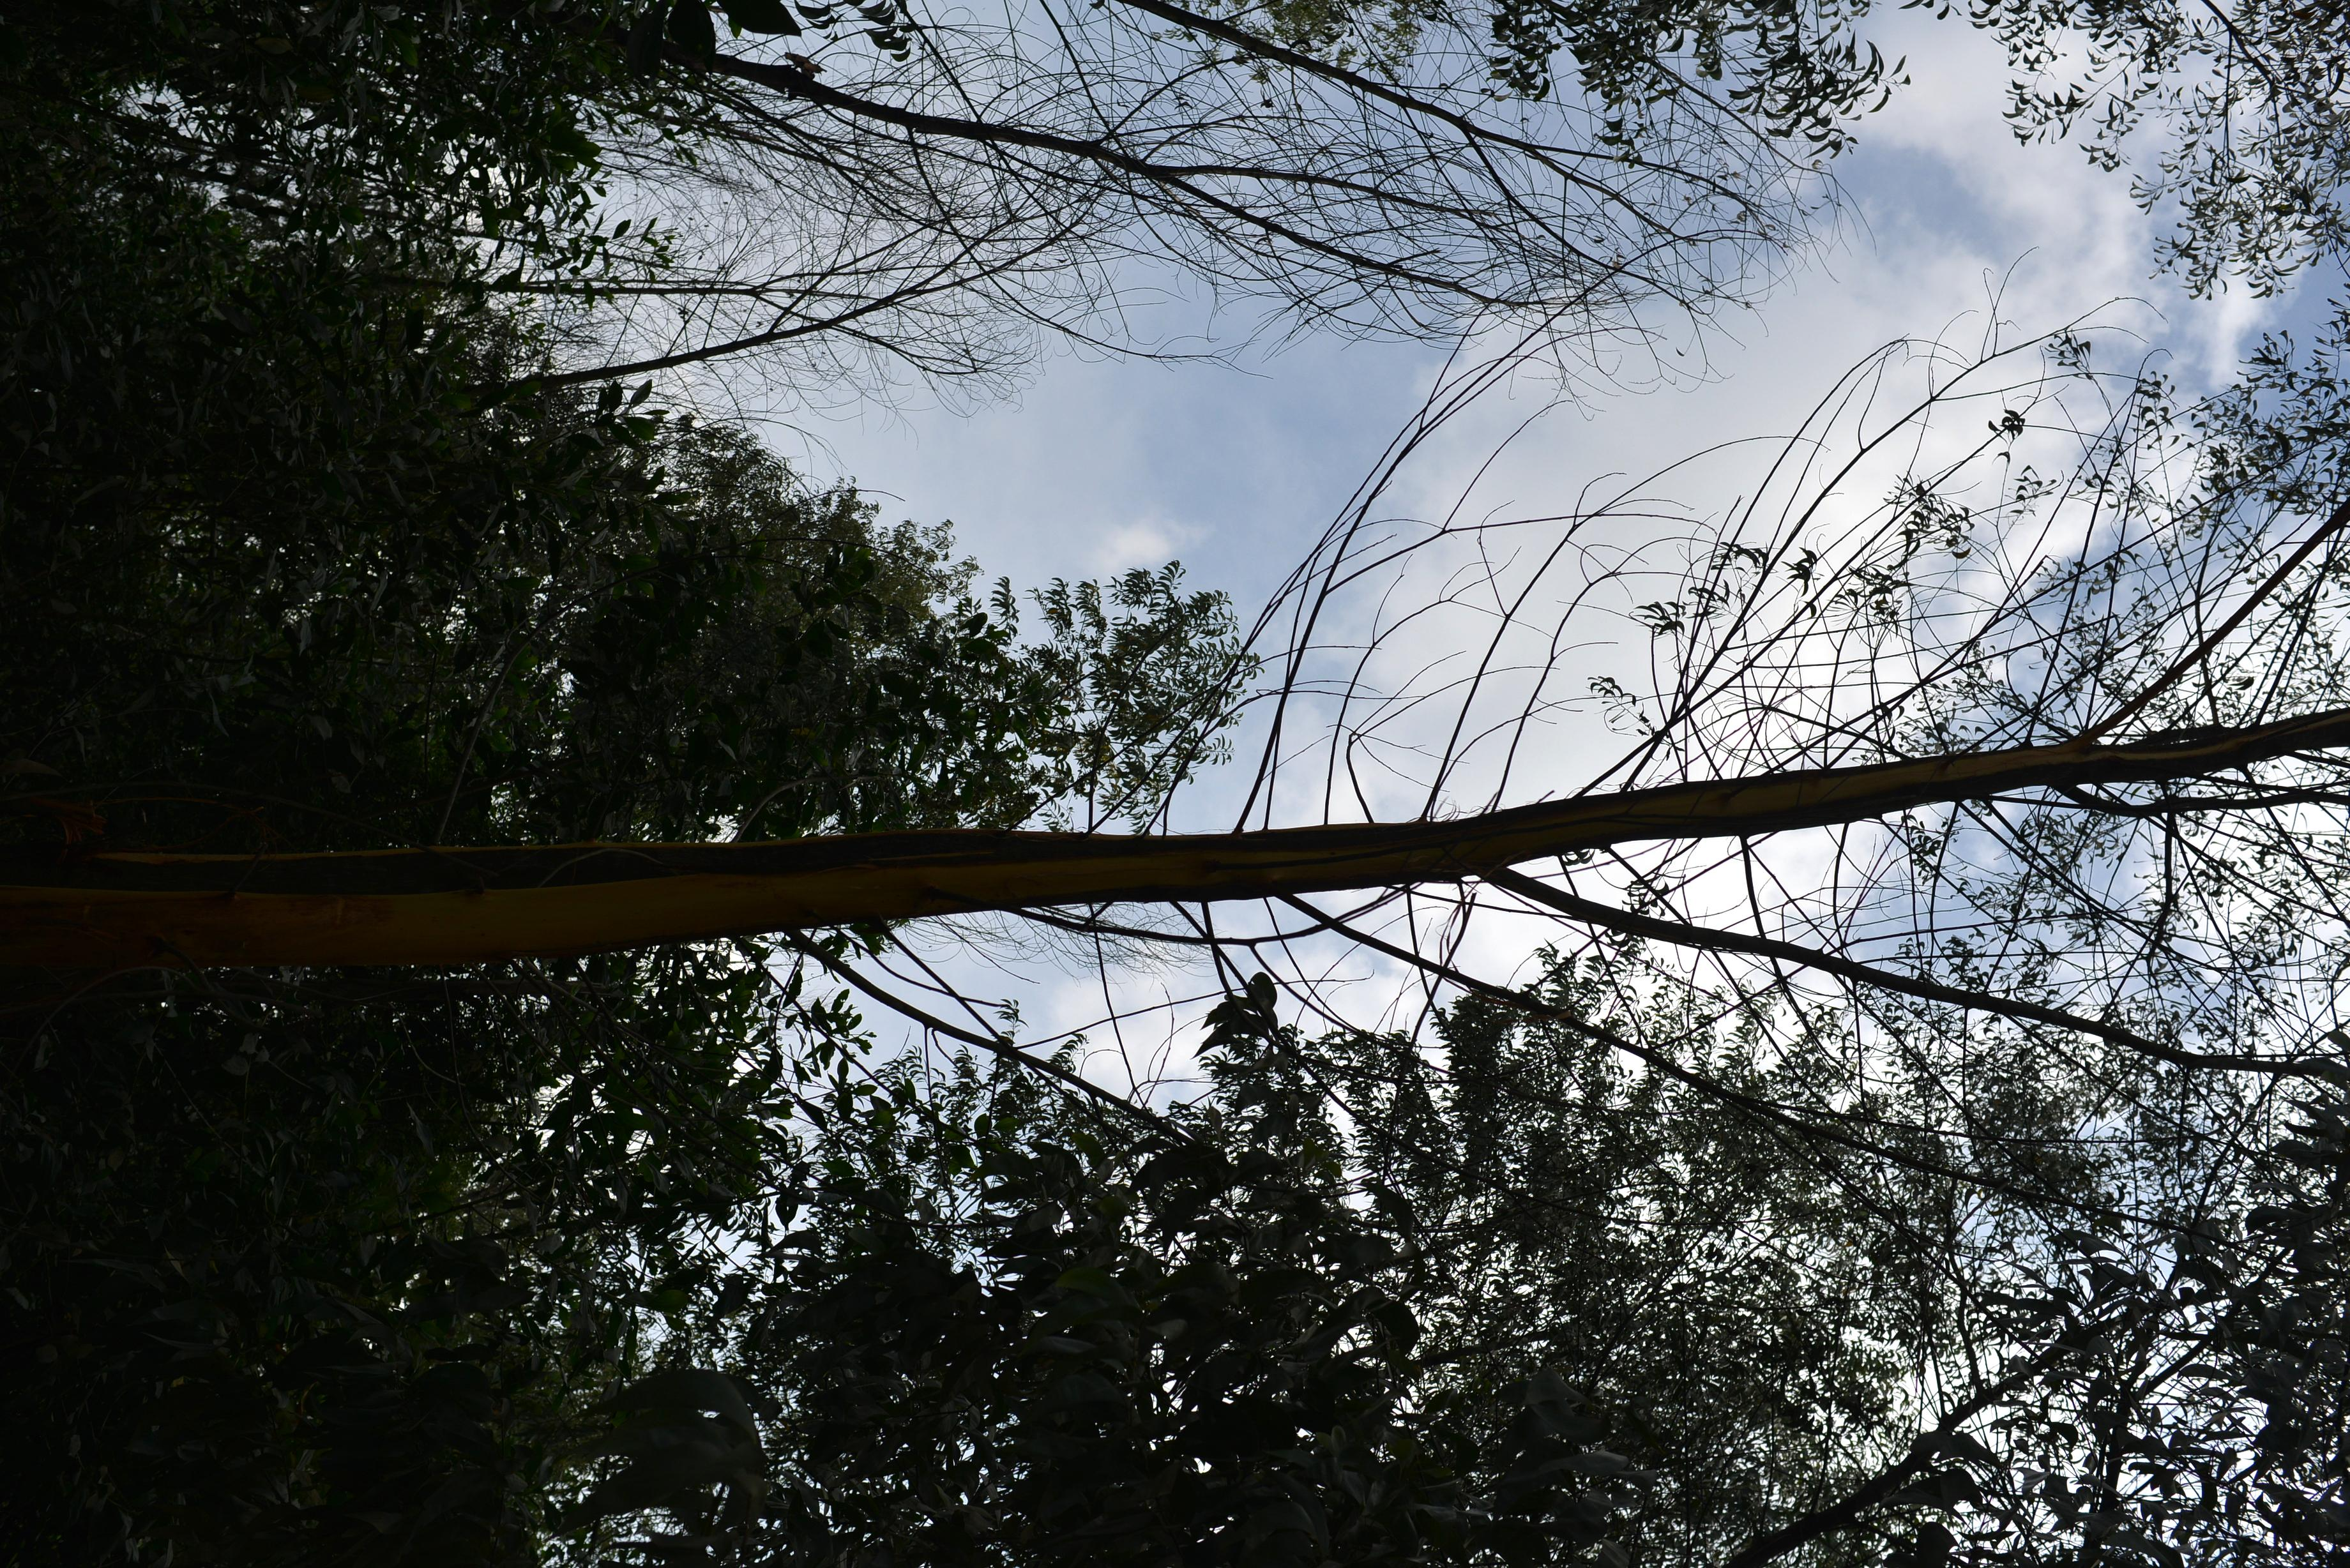Mammals Attack: (0, 705, 2350, 952)
